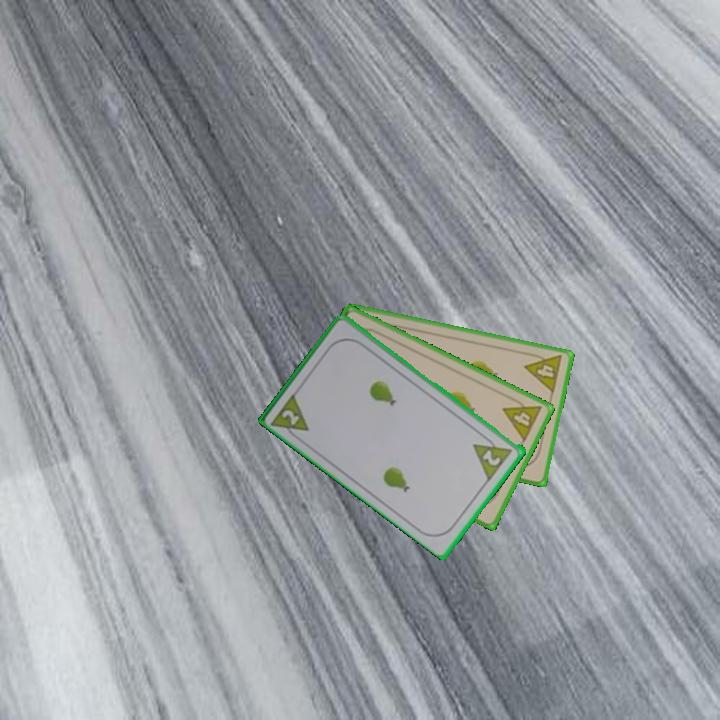2p: (479, 446, 504, 469), (278, 406, 303, 428)
4p: (499, 392, 545, 445), (521, 349, 565, 396)
